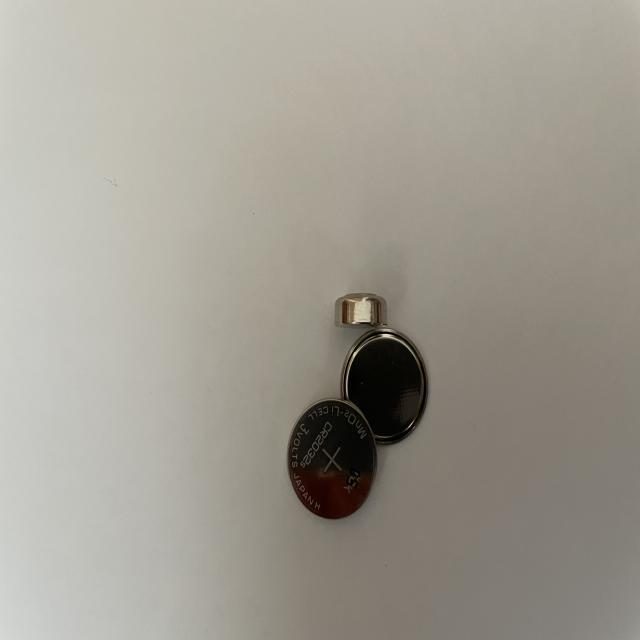COIN: (284, 396, 380, 520), (340, 330, 430, 446), (330, 288, 391, 334)
